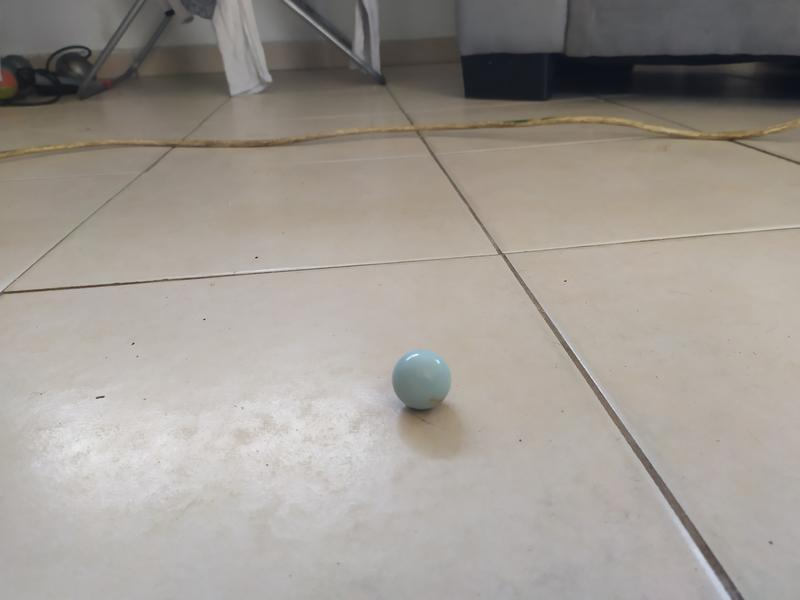Warning: (388, 345, 455, 414)
